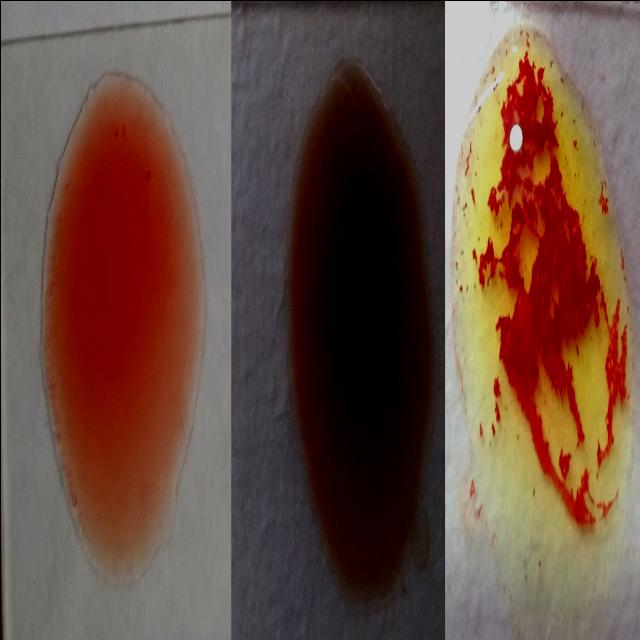B: (460, 32, 626, 541)
